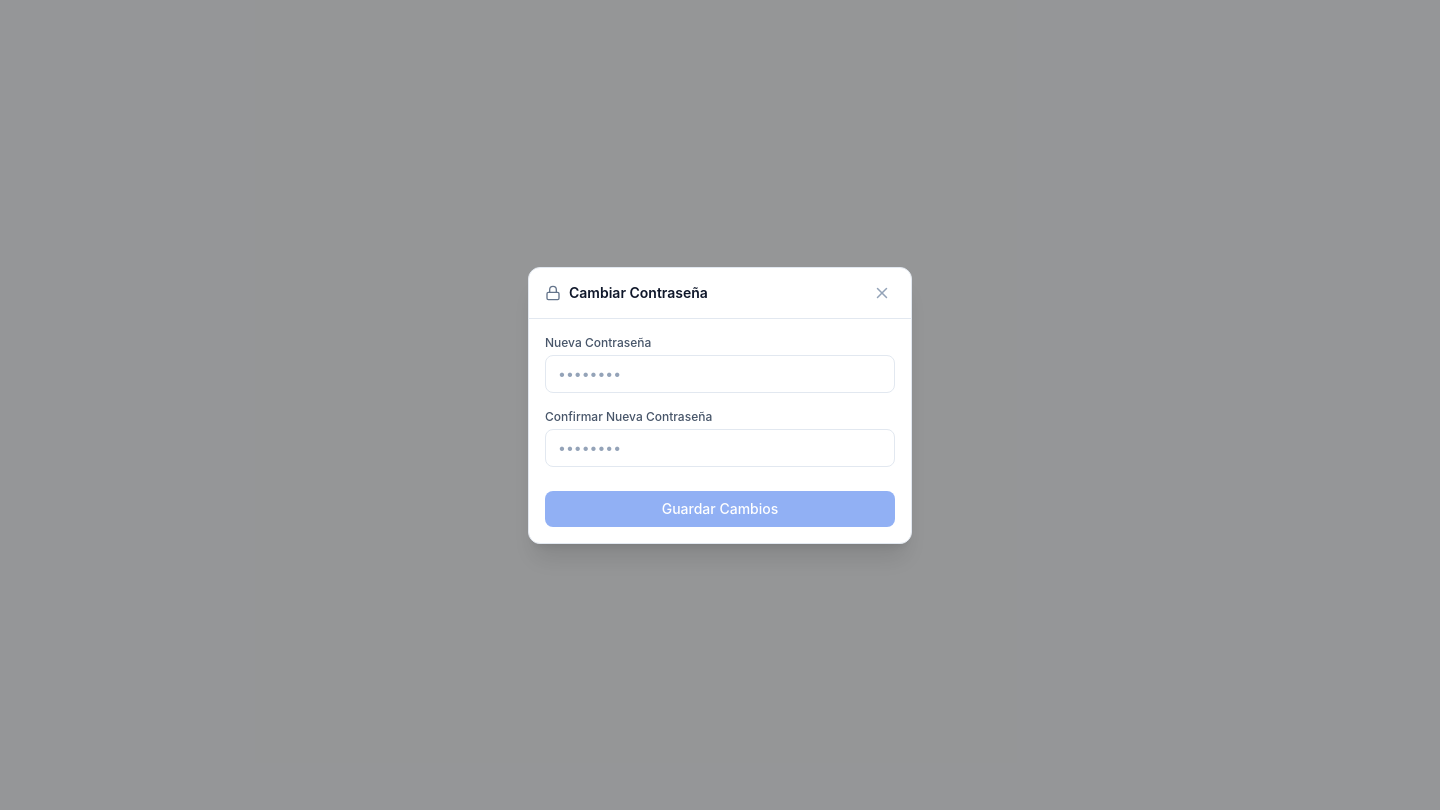
ChangePasswordModal › should show error when passwords do not match
Type "password123" into the 1st password field with placeholder "••••••••". click: (720, 374)
box: [545,354,895,392]
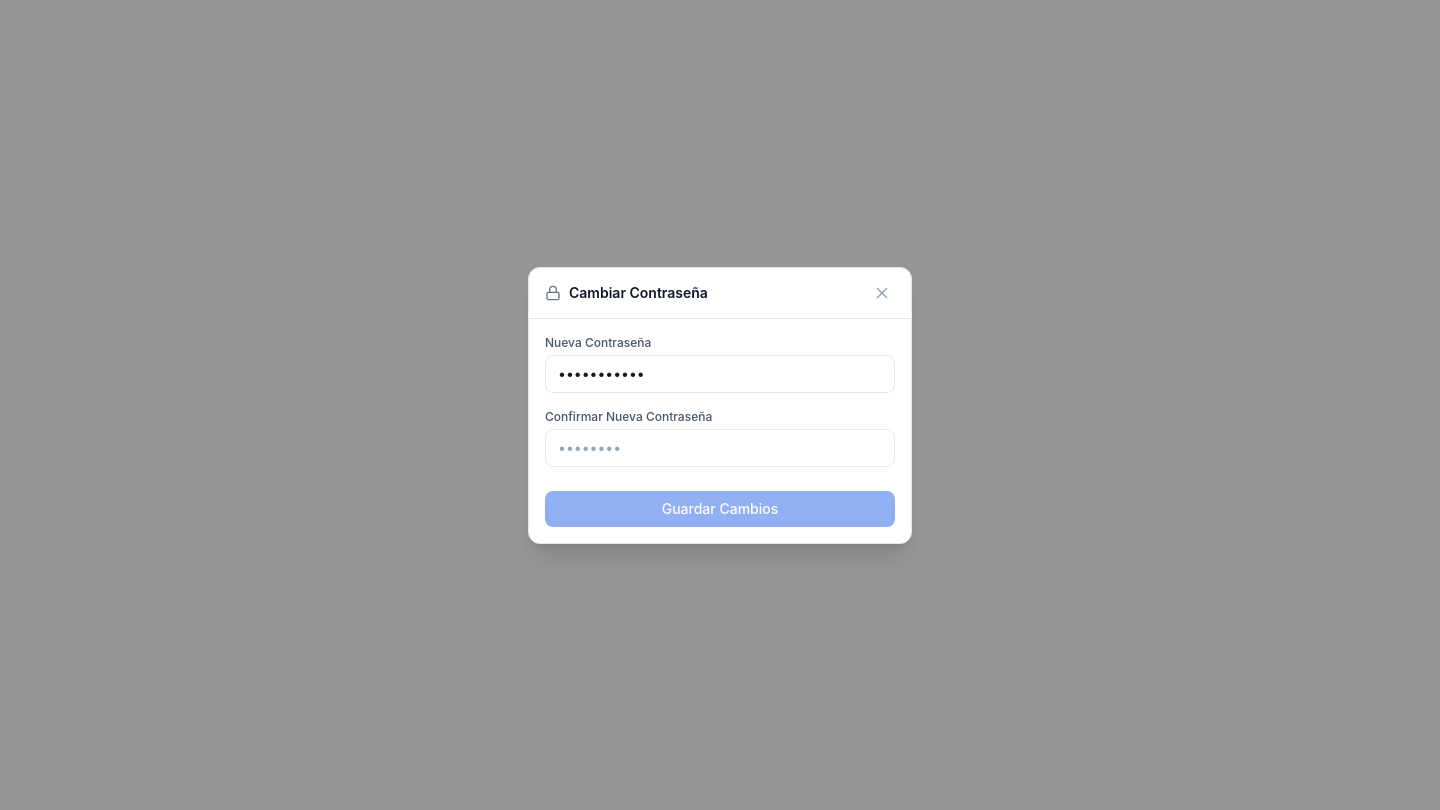
Type "different456" into the password field with placeholder "••••••••". click: (720, 448)
box: [545,428,895,466]
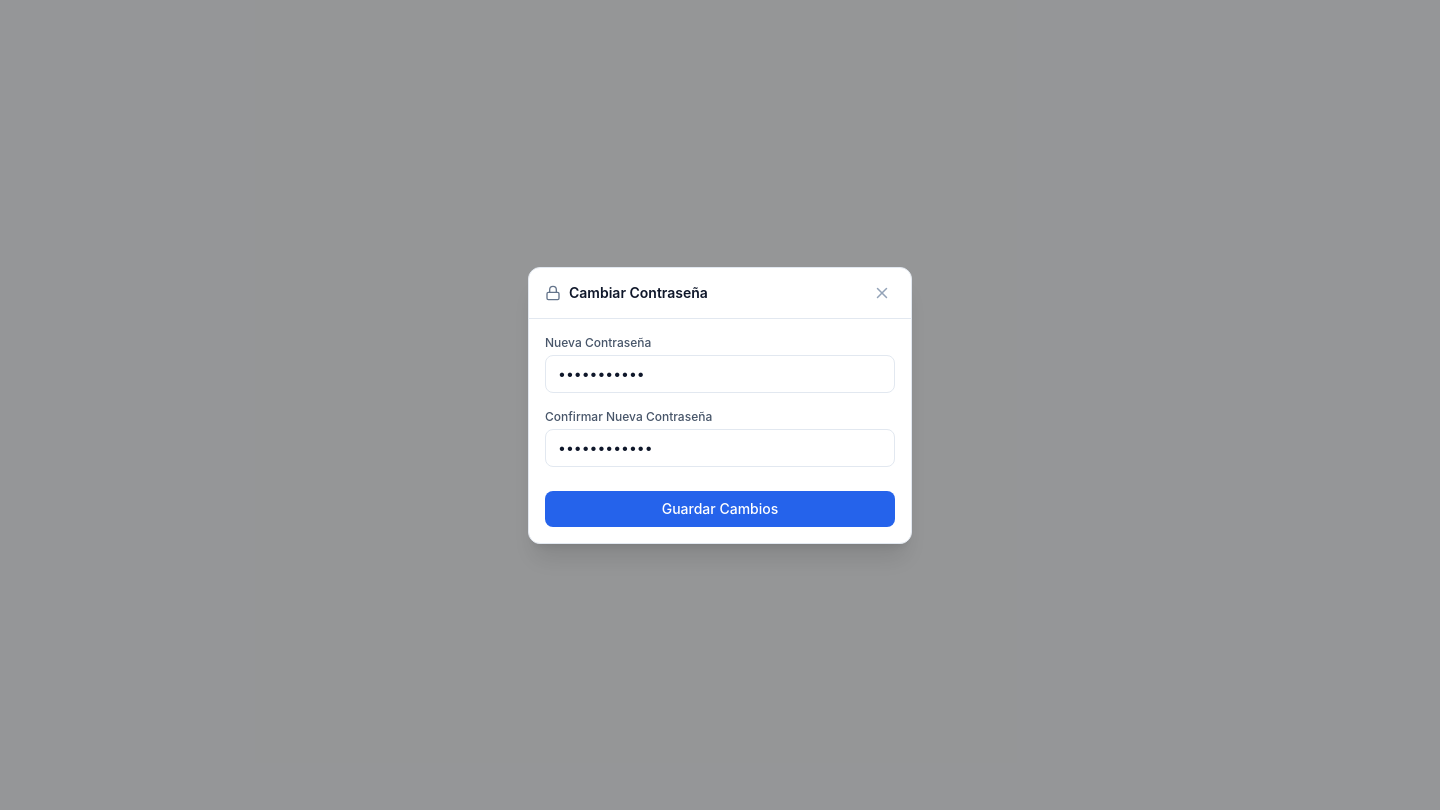
Click the button "Guardar Cambios". click: (720, 508)
box: [545,490,895,526]
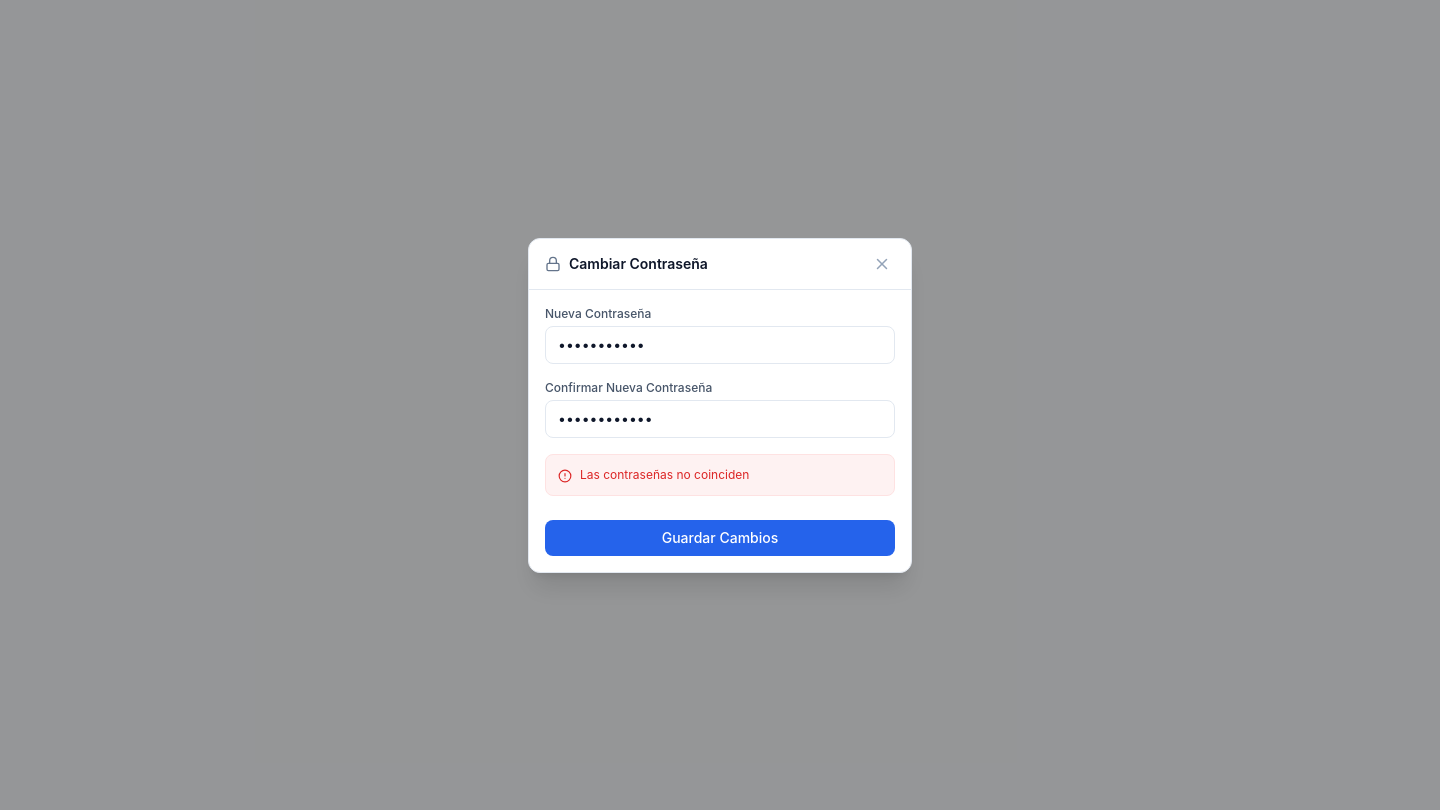
Expected: the text "Las contraseñas no coinciden" is shown, [580,466,749,482]
